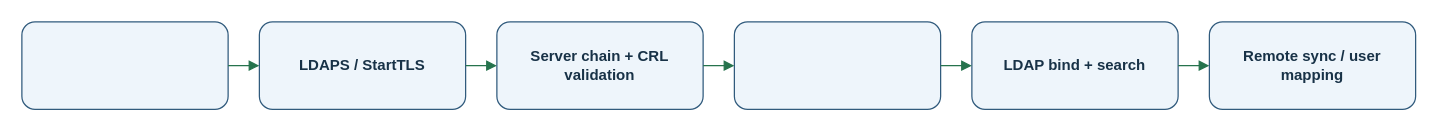
The diagram is 1438 pixels wide and 131 high, and some of its shapes have lost their labels. Here are the shapes that lost their labels. From the top down, the box of each, then its label:
(21, 21, 228, 109): FAC resolves LDAP FQDN
(733, 21, 941, 109): Optional FAC client certificate
